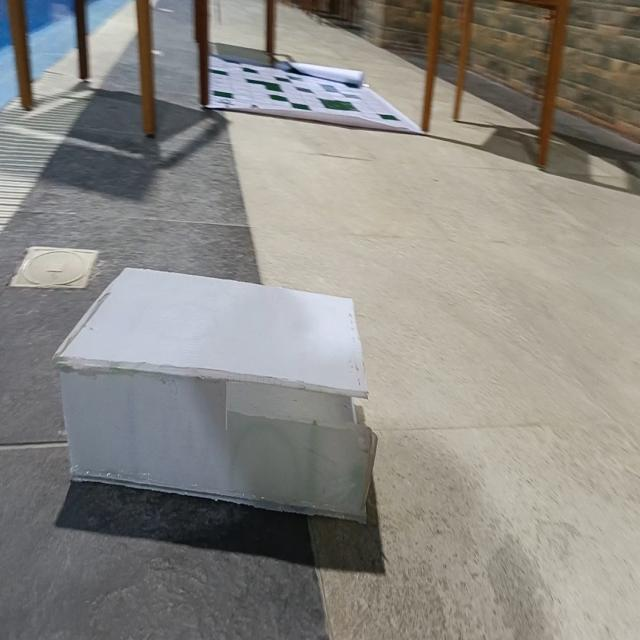Cuboid: (52, 262, 378, 526)
